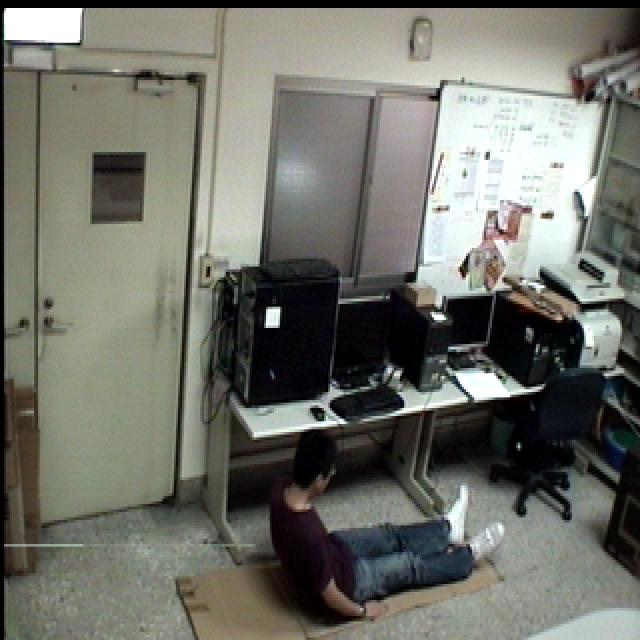sit: (266, 421, 516, 629)
